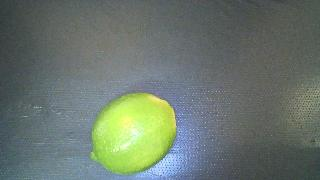EXPORTACION: (90, 93, 177, 174)
